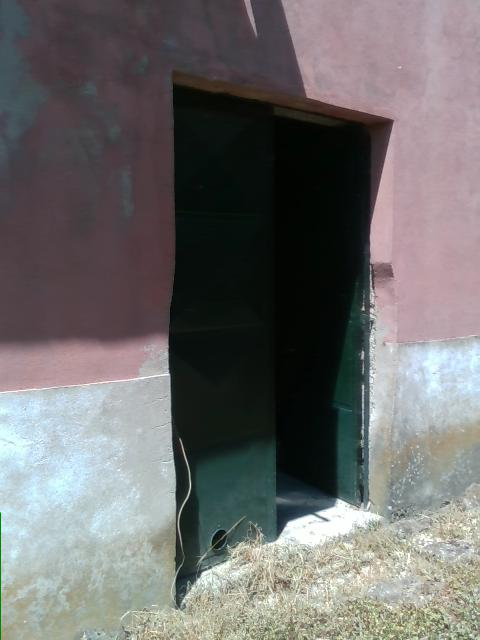open_door: (167, 66, 395, 610)
